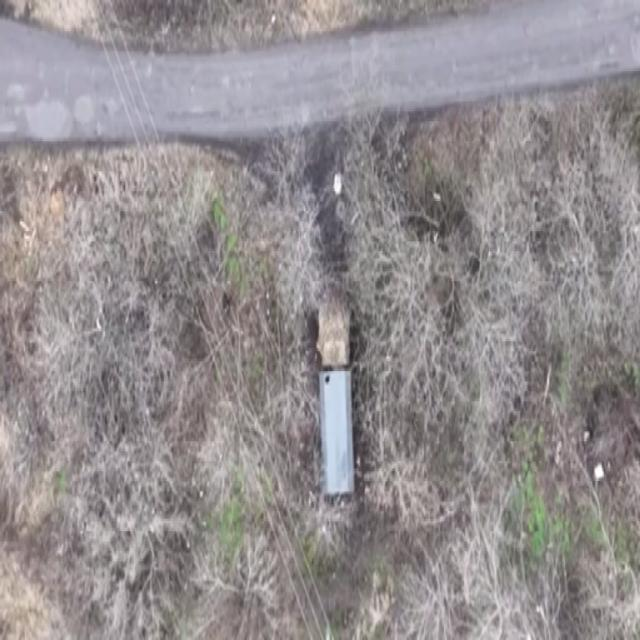TRUCK: (312, 298, 362, 506)
